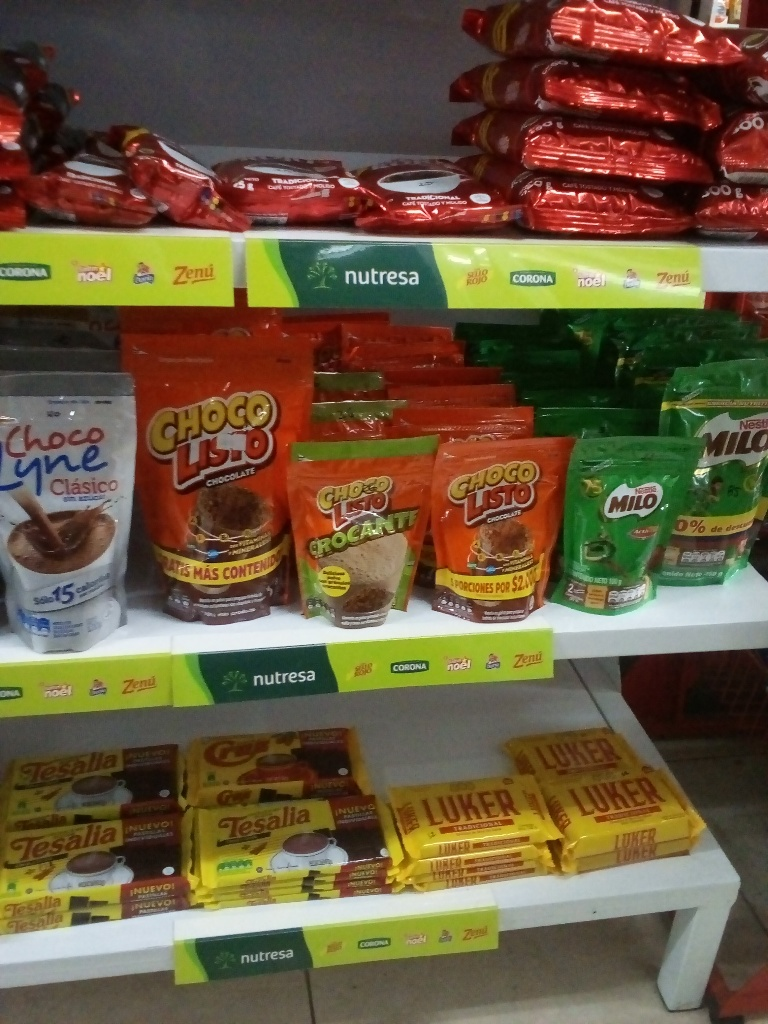COL0170102DYP10000: (290, 436, 434, 636)
COL0170103DYP36000: (112, 332, 299, 620)
COL0170203DYP10000: (570, 435, 673, 614)
COL0170203DYP25000: (662, 360, 767, 586)
